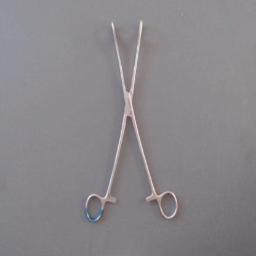Sponge Forceps: (80, 12, 182, 228)
